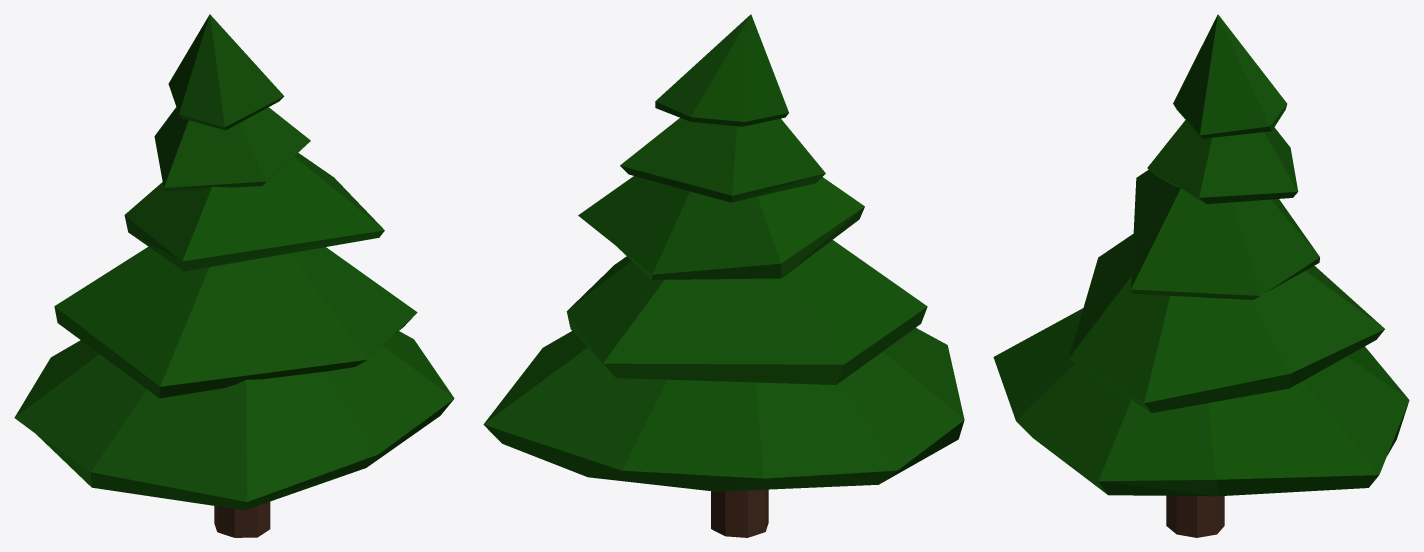
Rendered from SpruceTree1.fbx.
3 views of the same model, side by side, from view 1: azimuth 30°, elevation 25°; view 2: azimuth 150°, elevation 25°; view 3: azimuth 270°, elevation 25° (orthographic). The views are drawn at different scales.
Parts seen in each view (by area): view 1: Cube; view 2: Cube; view 3: Cube.
Boxes of the visible parts, <box> form: Cube: <box>14,14,454,537</box>; Cube: <box>483,14,964,537</box>; Cube: <box>993,14,1409,537</box>.
Bounding box in the file's own units: 658 × 861 × 647.
